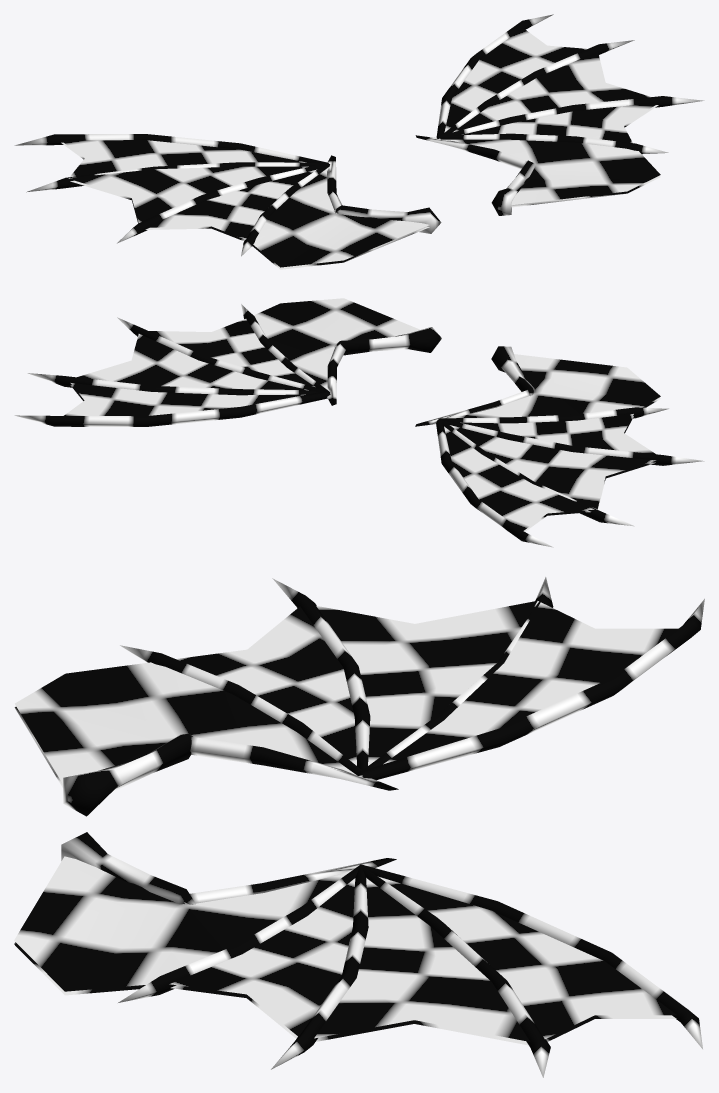
Rendered from initlitr11.dae.
3 renders of one model, top to bottom at view 1: azimuth 30°, elevation 25°; view 2: azimuth 150°, elevation 25°; view 3: azimuth 270°, elevation 25°, orthographic. The views are drawn at different scales.
Parts seen in each view (by area): view 1: item; view 2: item; view 3: item.
Part boxes in pixels (x1,y1,x2,y2): item: (14, 14, 704, 269); item: (14, 298, 704, 547); item: (14, 577, 704, 1077).
Size of the model in its own units: 1.63 by 0.9346 by 0.0627.
1 material, 1 textured.
